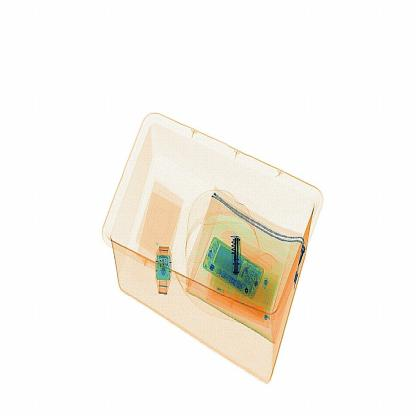scissors: (229, 229, 245, 282)
